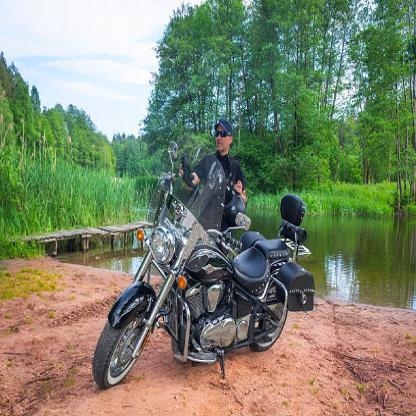Motorcycle: (90, 153, 315, 400)
